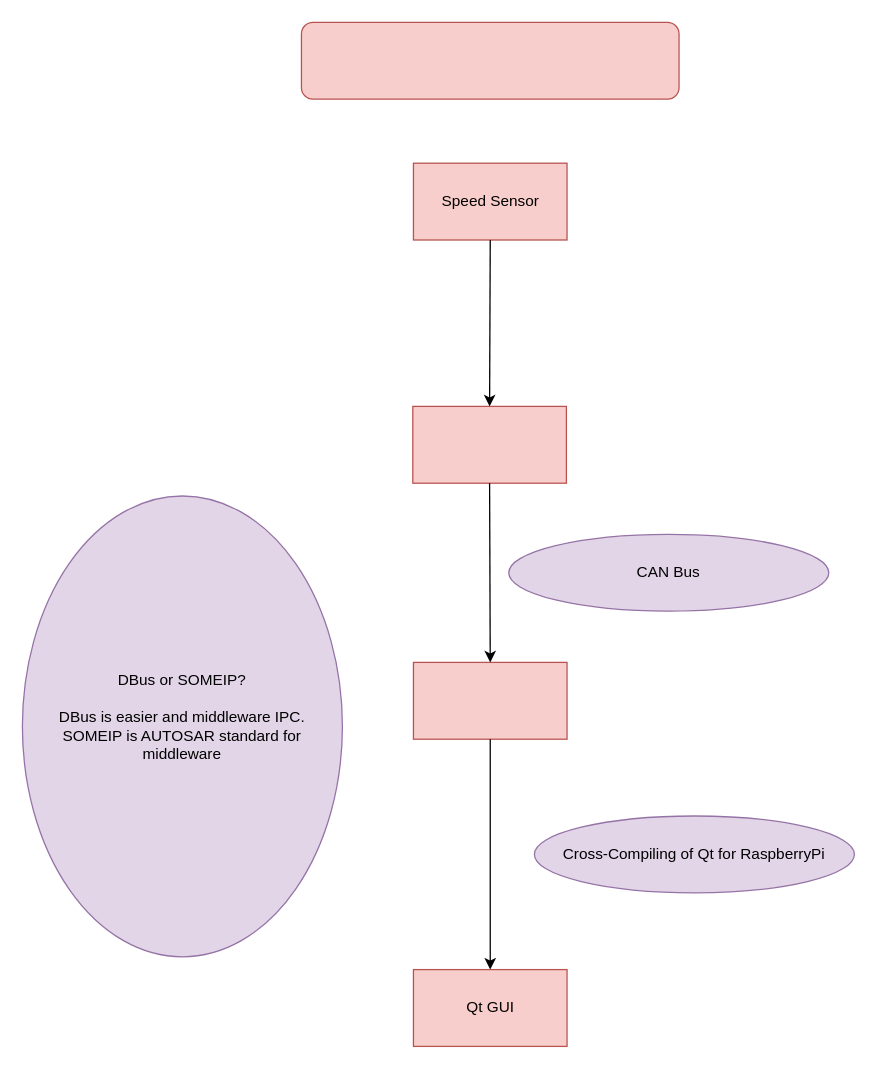
Image size: 877x1069. Some labels were removed from this diagram. Here are the shapes that lost their labels. From the top down, the centre of each, then its label:
At point (489, 60): "Instrument Cluster".
At point (489, 444): "Arduino".
At point (489, 700): "RaspberryPi".
